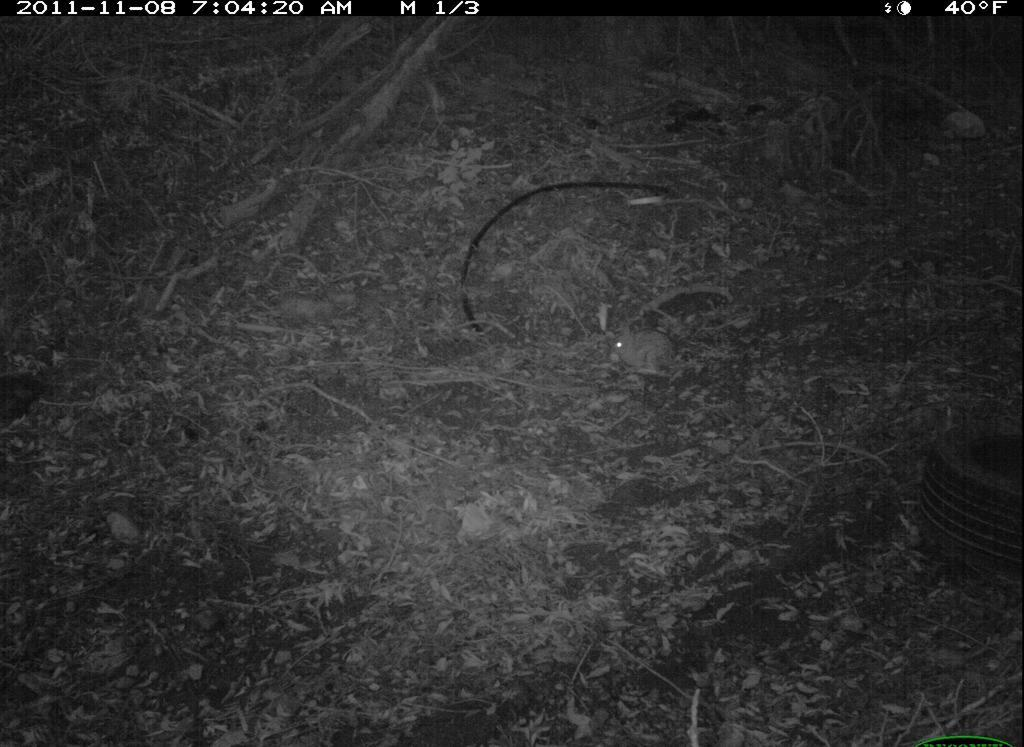rabbit: (607, 319, 682, 380)
